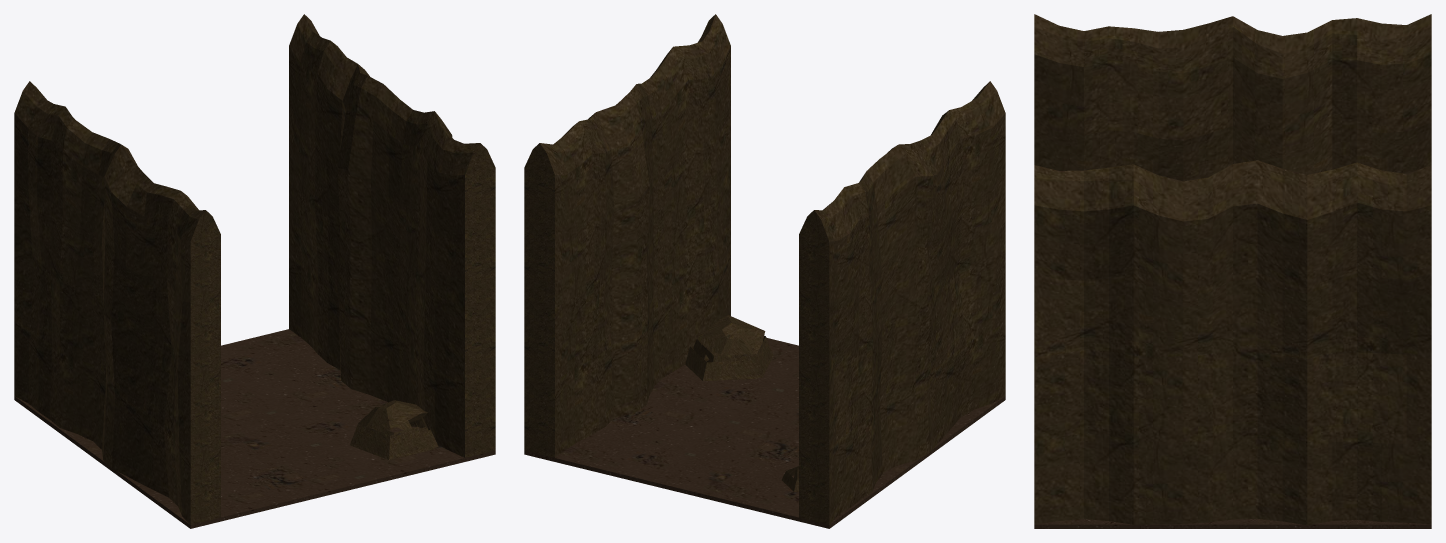
File: dungeon_corridor_4_dirt.glb
3 renders of one model, left to right at view 1: azimuth 30°, elevation 25°; view 2: azimuth 150°, elevation 25°; view 3: azimuth 270°, elevation 25°, orthographic. The views are drawn at different scales.
Parts seen in each view (by area): view 1: dungeon_corridor_4_dirt; view 2: dungeon_corridor_4_dirt; view 3: dungeon_corridor_4_dirt.
Boxes of the visible parts, bbox=[...] form: dungeon_corridor_4_dirt: bbox=[14, 14, 495, 528]; dungeon_corridor_4_dirt: bbox=[524, 14, 1005, 528]; dungeon_corridor_4_dirt: bbox=[1034, 14, 1431, 528].
Bounding box in the file's own units: 4.09 × 3.96 × 4.
2 materials, 2 textured.
